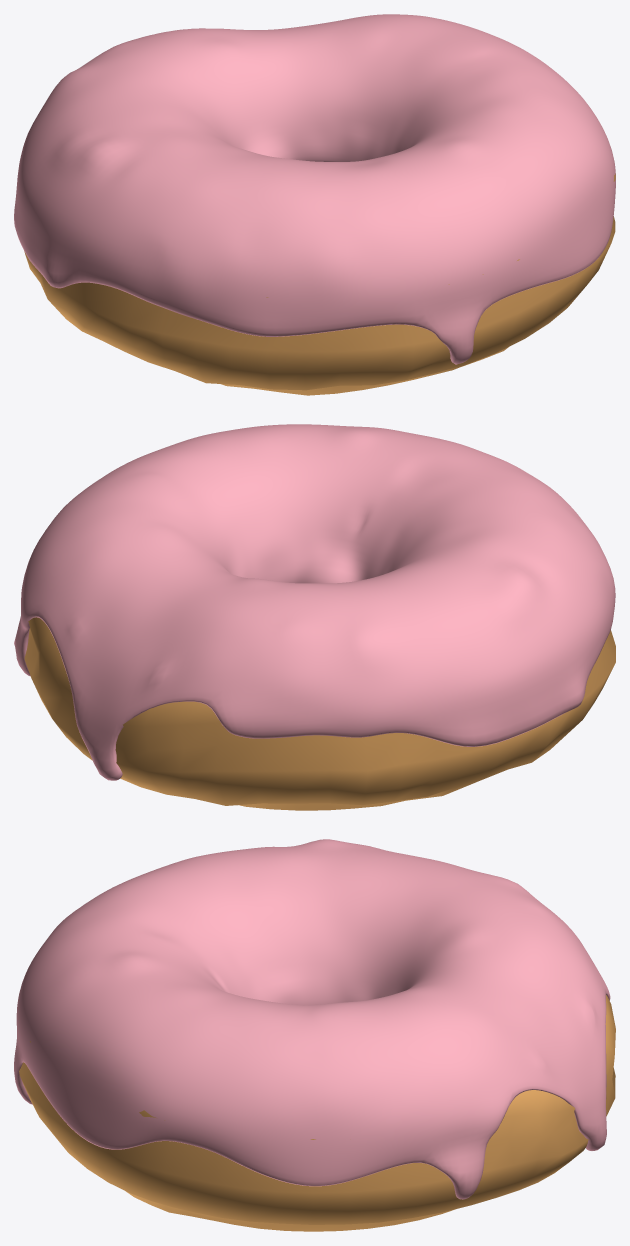
The model's file is dnutwithMat1.gltf.
3 views of the same model, one above another, from view 1: azimuth 30°, elevation 25°; view 2: azimuth 150°, elevation 25°; view 3: azimuth 270°, elevation 25° (orthographic).
Parts seen in each view (by area): view 1: icing, Dnut; view 2: icing, Dnut; view 3: icing, Dnut.
Part boxes in pixels (x1,y1,x2,y2): icing: (14, 14, 615, 364); Dnut: (24, 173, 615, 395); icing: (14, 424, 615, 780); Dnut: (24, 617, 615, 810); icing: (14, 839, 610, 1199); Dnut: (19, 995, 615, 1231).
Size of the model in its own units: 0.3157 by 0.1261 by 0.3129.
